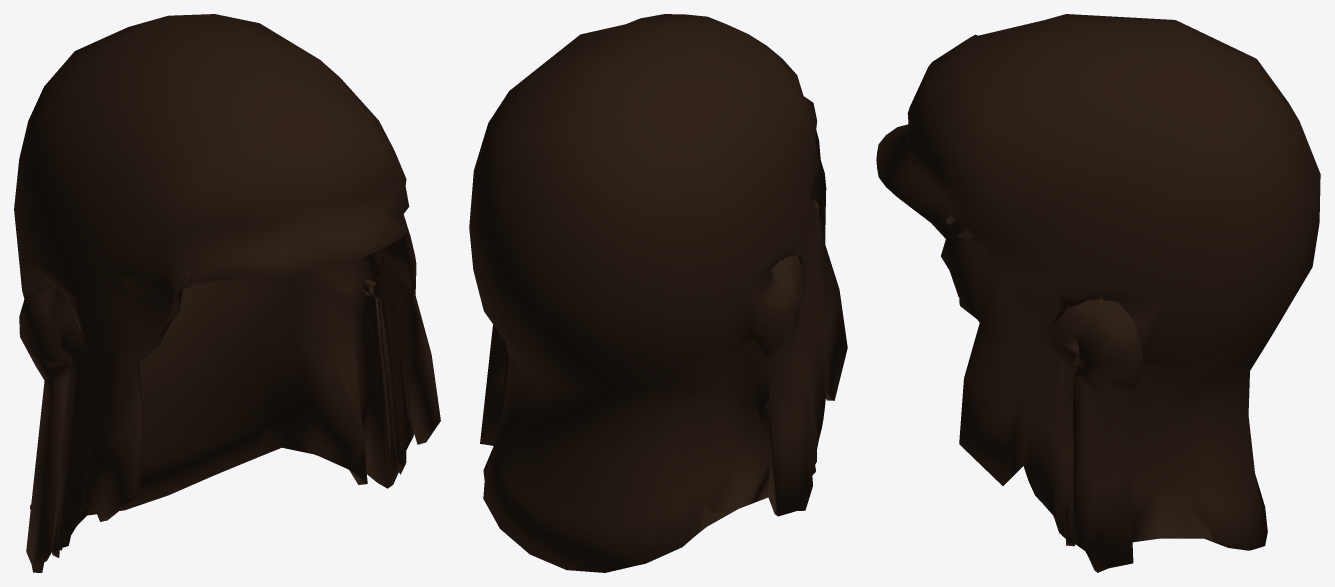
File: hair_bob.glb
3 renders of one model, left to right at view 1: azimuth 30°, elevation 25°; view 2: azimuth 150°, elevation 25°; view 3: azimuth 270°, elevation 25°, orthographic. The views are drawn at different scales.
Parts seen in each view (by area): view 1: hair_bob; view 2: hair_bob; view 3: hair_bob.
Part boxes in pixels (x1=…): hair_bob: x1=14, y1=14, x2=440, y2=572; hair_bob: x1=469, y1=14, x2=847, y2=572; hair_bob: x1=876, y1=14, x2=1320, y2=572.
Bounding box in the file's own units: 0.2248 × 0.3129 × 0.251.
